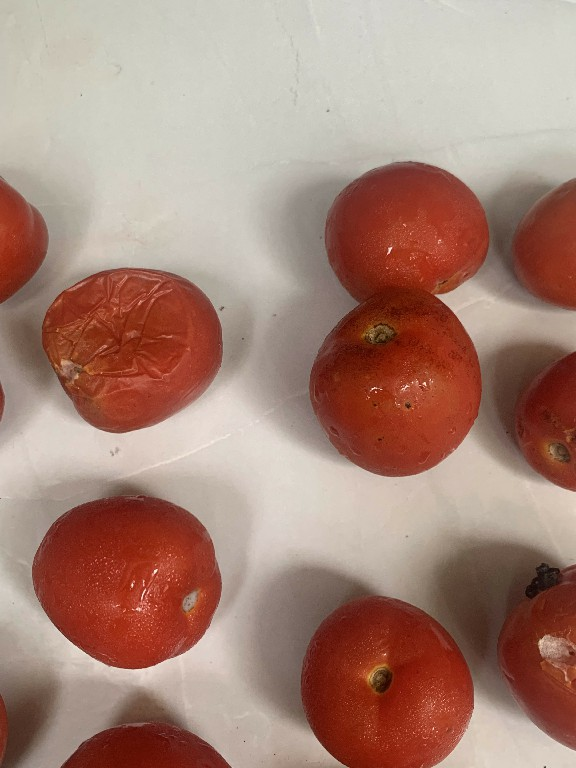NG: (301, 272, 490, 483), (30, 259, 236, 440)
OK: (27, 477, 232, 682), (294, 589, 490, 767), (319, 152, 497, 311)
